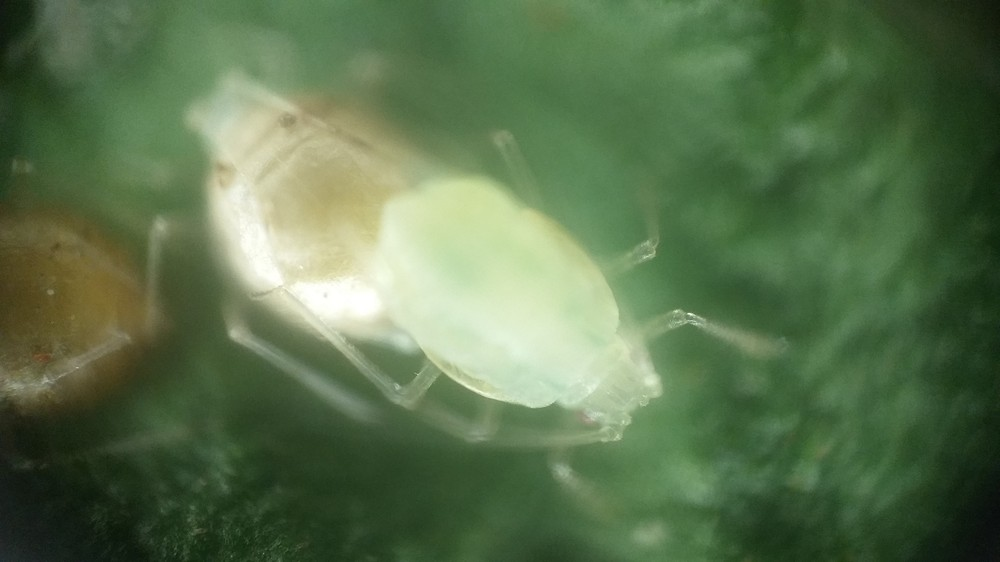Pulgon: (330, 119, 805, 502), (171, 47, 513, 408)
